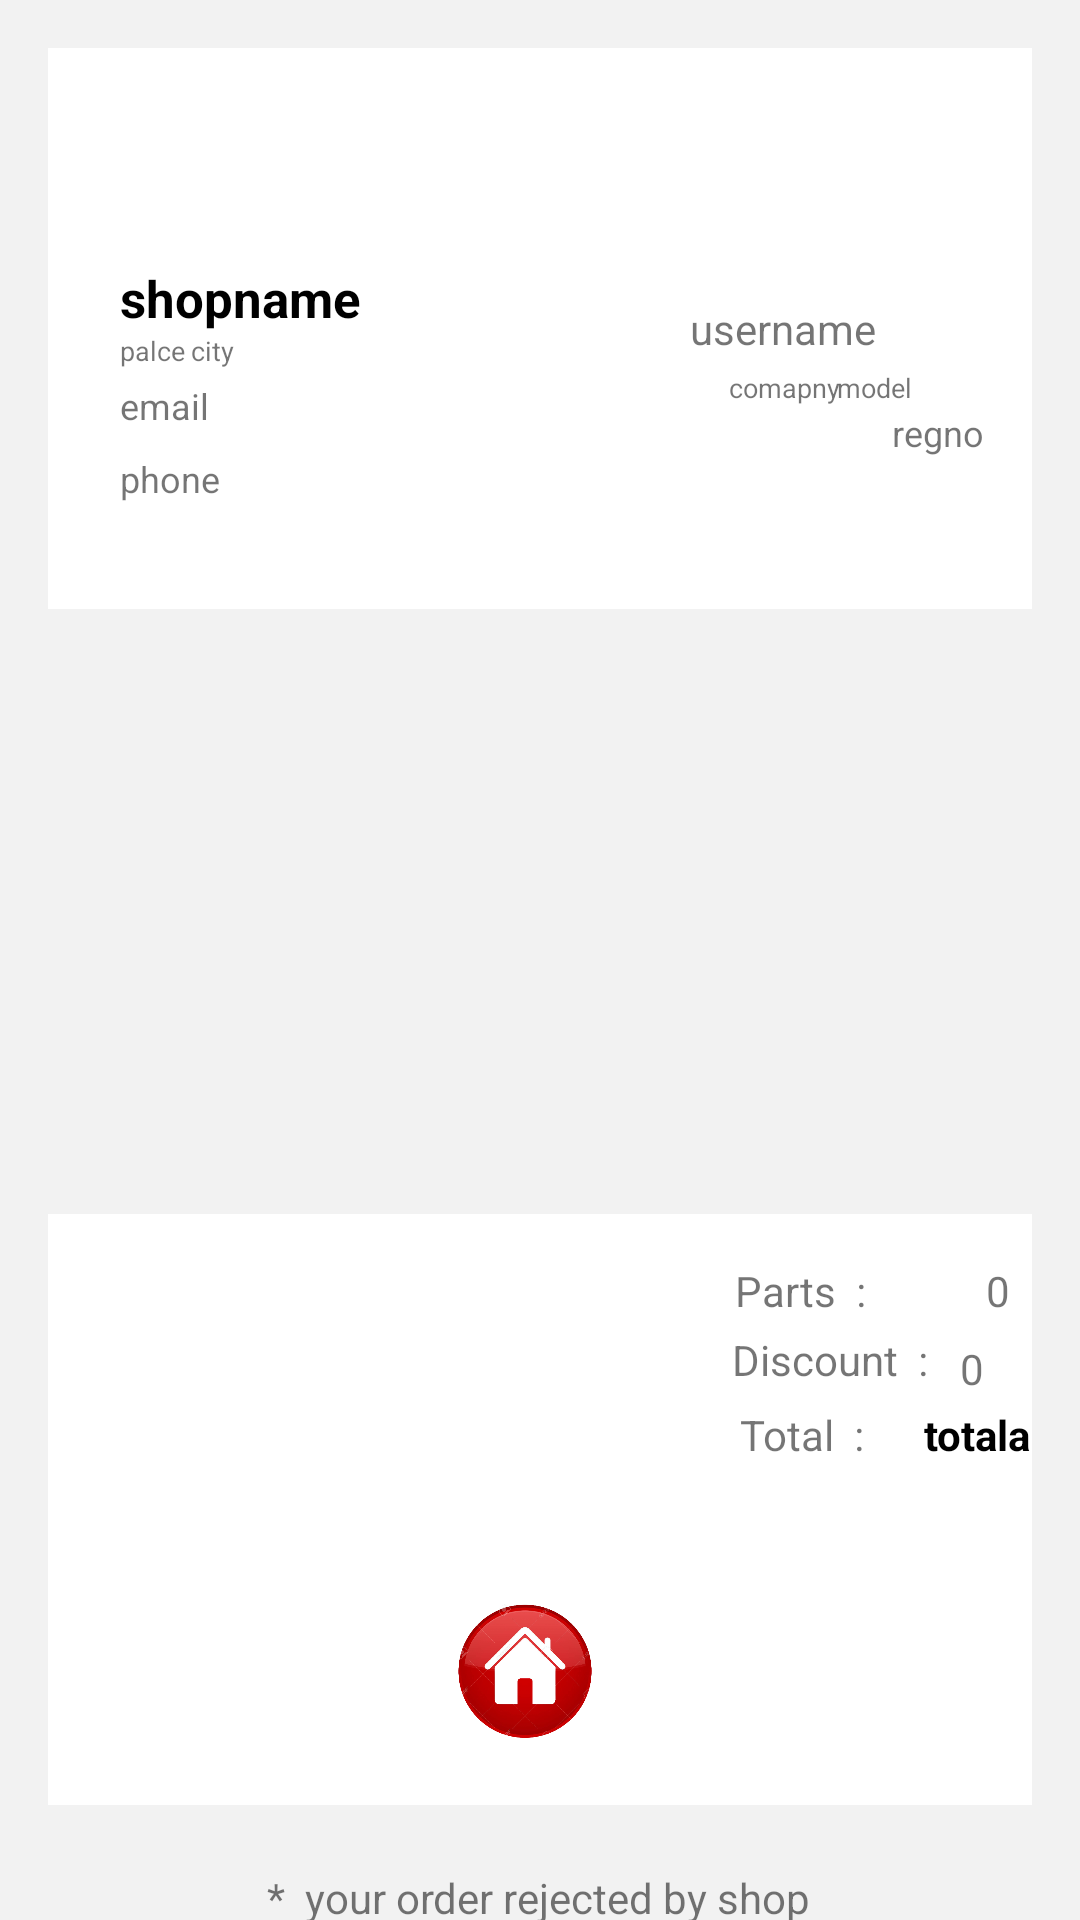

Named icons in this screenshot (1080px x 1920px) and their bounding boxes, {"left": x1, "top": y1, "right": x2, "bottom": y2}:
rejhiome: {"left": 458, "top": 1605, "right": 592, "bottom": 1738}
